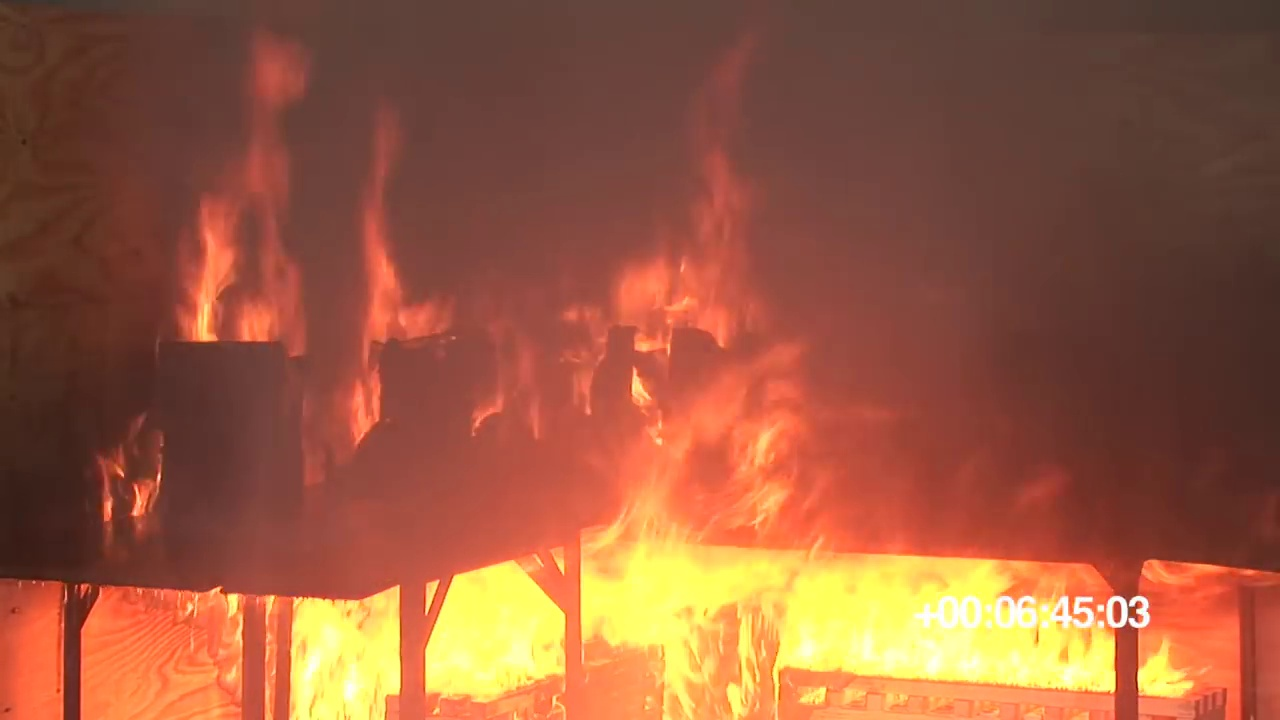fire: (290, 554, 1120, 700), (619, 256, 847, 565), (175, 153, 299, 345), (350, 248, 451, 340), (99, 460, 159, 528), (1140, 641, 1191, 702)
